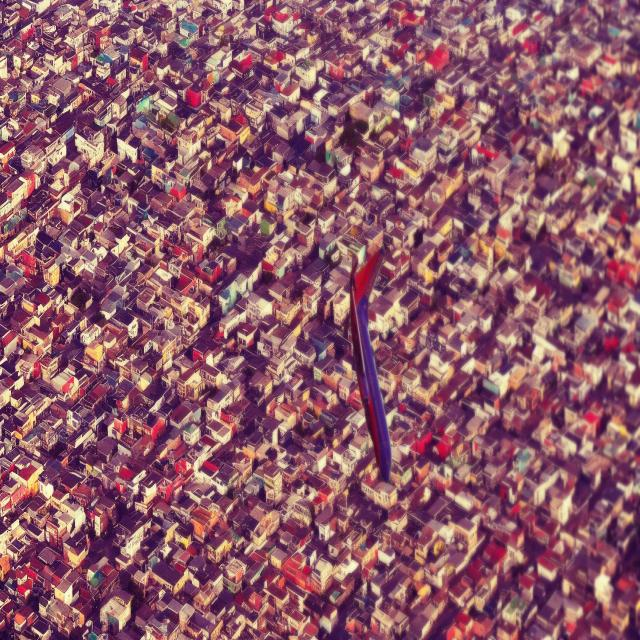airplane: (348, 243, 392, 484)
